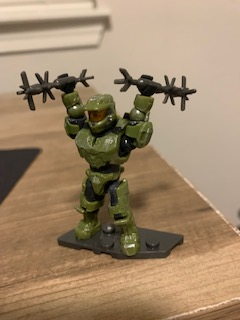chief: (55, 71, 151, 257)
spartan: (53, 69, 149, 255)
up: (52, 72, 155, 172)
